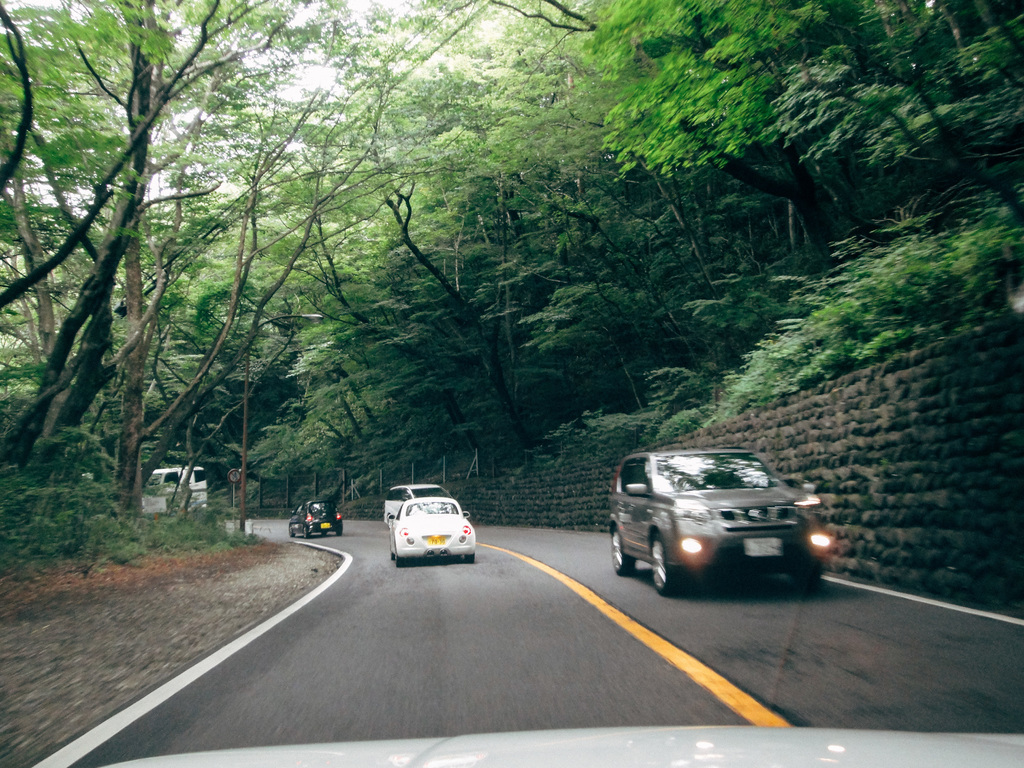Tree: (0, 0, 290, 503), (296, 69, 542, 446), (572, 0, 839, 300), (773, 0, 1023, 215), (162, 223, 291, 518)
